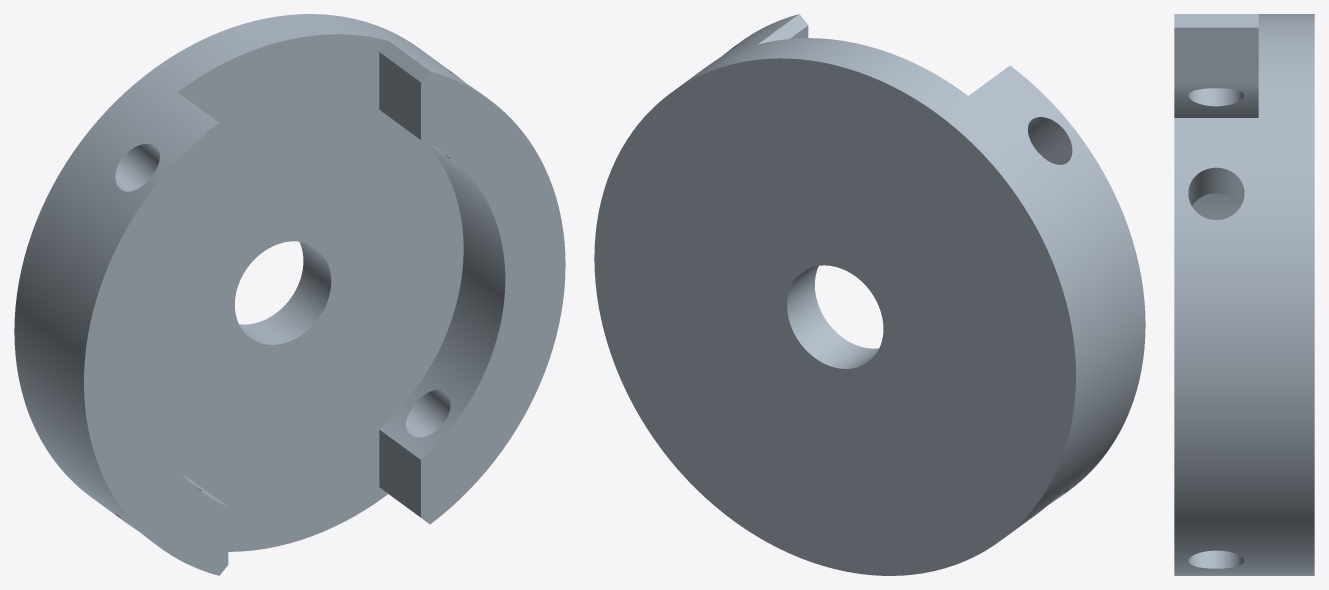
The model's file is outershell2.obj.
3 views of the same model, side by side, from view 1: azimuth 30°, elevation 25°; view 2: azimuth 150°, elevation 25°; view 3: azimuth 270°, elevation 25° (orthographic).
Parts seen in each view (by area): view 1: 1; view 2: 1; view 3: 1.
Part boxes in pixels (box(x1,y1,x2,y2)): 1: box(14, 14, 565, 575); 1: box(594, 14, 1145, 575); 1: box(1174, 14, 1314, 575).
Size of the model in its own units: 100 by 100 by 25.
